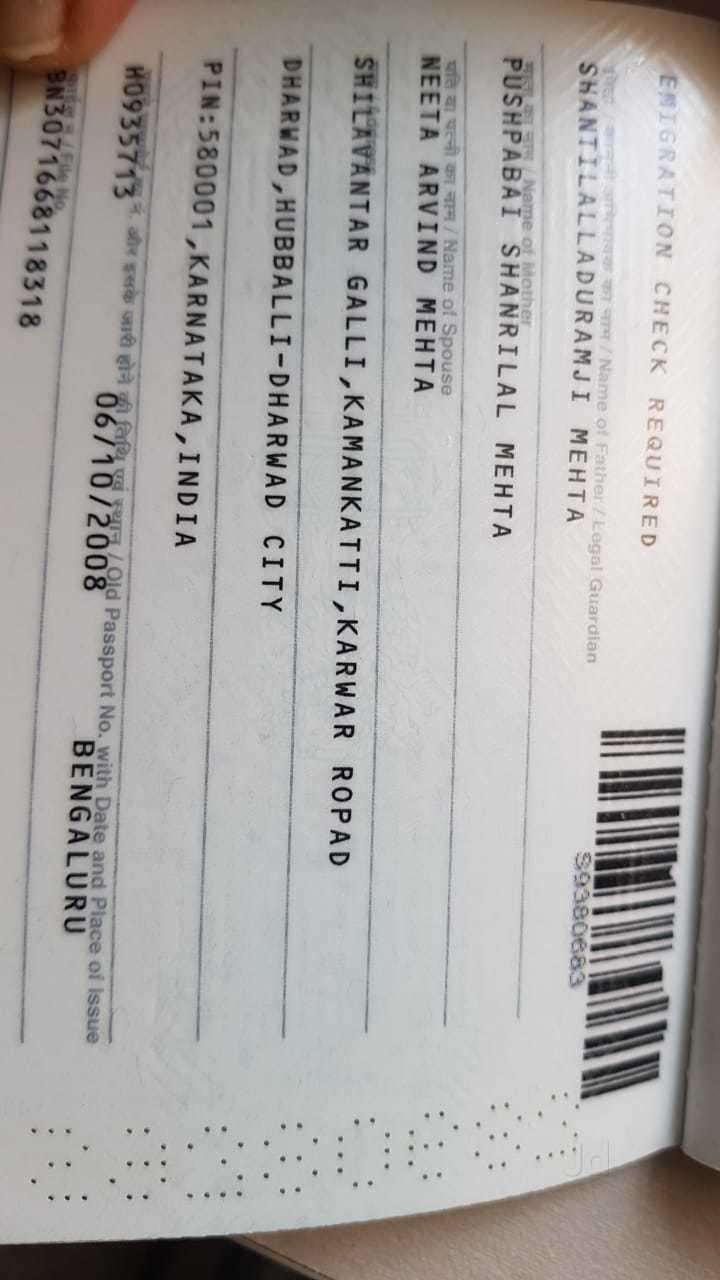File_no: (7, 62, 78, 333)
address: (163, 47, 362, 969)
father_name: (556, 31, 614, 558)
mother_name: (485, 35, 531, 550)
old_passport_details: (32, 48, 177, 986)
passport_no: (568, 847, 592, 999)
spouse_name: (405, 30, 452, 418)
